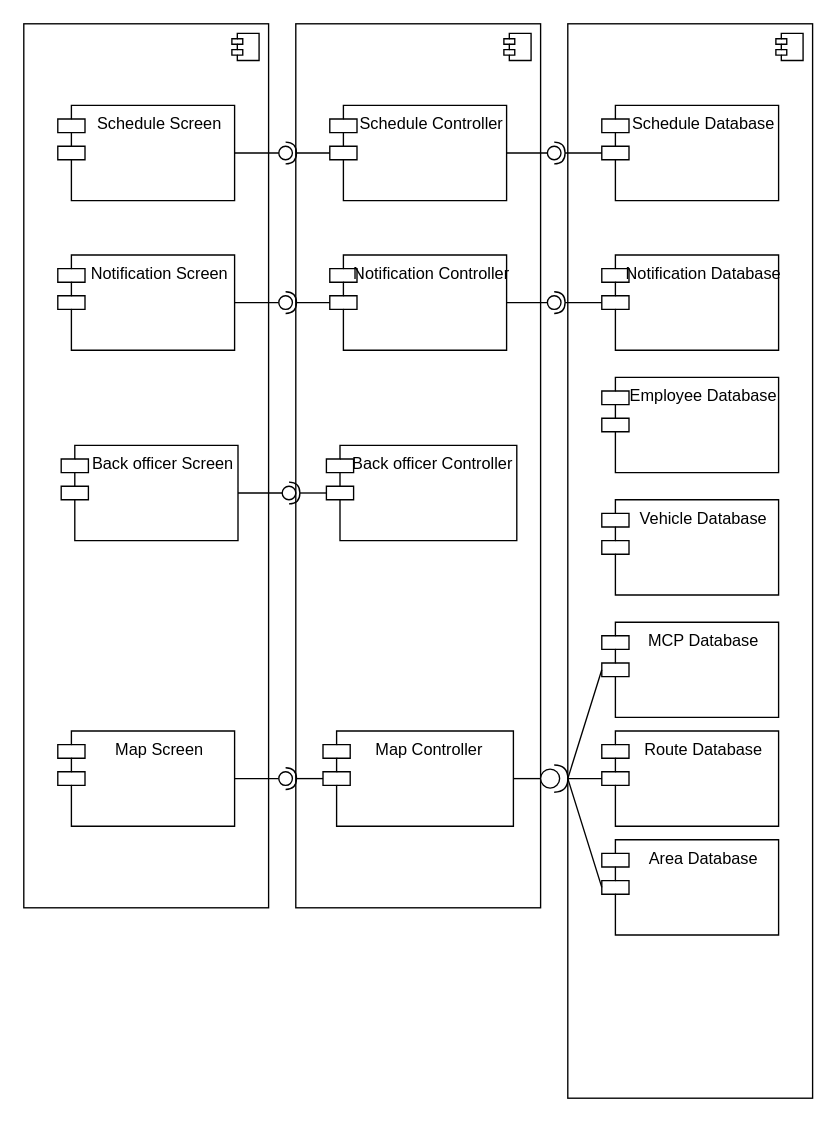
Image size: 836x1122. Some labels were removed from this diagram. The shapes that lost their labels are listed below. From the top down, each one's box as (x1, y1, x2, y2) in pixels, then its label:
(22, 22, 269, 908): «component» View
(294, 22, 541, 908): «component» Controller
(566, 22, 813, 1098): «component» Model
